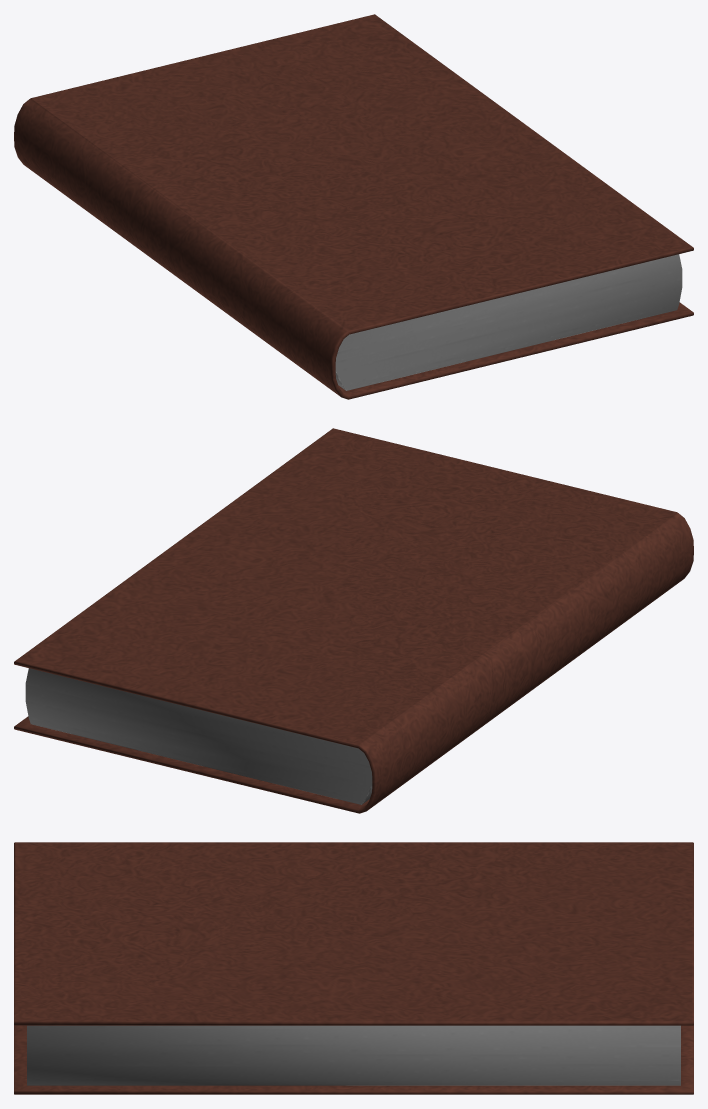
The model's file is livre_1.glb.
3 views of the same model, one above another, from view 1: azimuth 30°, elevation 25°; view 2: azimuth 150°, elevation 25°; view 3: azimuth 270°, elevation 25° (orthographic). The views are drawn at different scales.
Visible parts, largest first — view 1: Cube, Cube.001; view 2: Cube, Cube.001; view 3: Cube, Cube.001.
Part boxes in pixels (left/top/right/bottom): Cube: left=14, top=14, right=693, bottom=399; Cube.001: left=335, top=254, right=682, bottom=390; Cube: left=14, top=428, right=693, bottom=813; Cube.001: left=25, top=668, right=372, bottom=804; Cube: left=14, top=842, right=693, bottom=1094; Cube.001: left=27, top=1025, right=680, bottom=1085.
Bounding box in the file's own units: 105 × 19 × 160.
2 materials, 2 textured.
